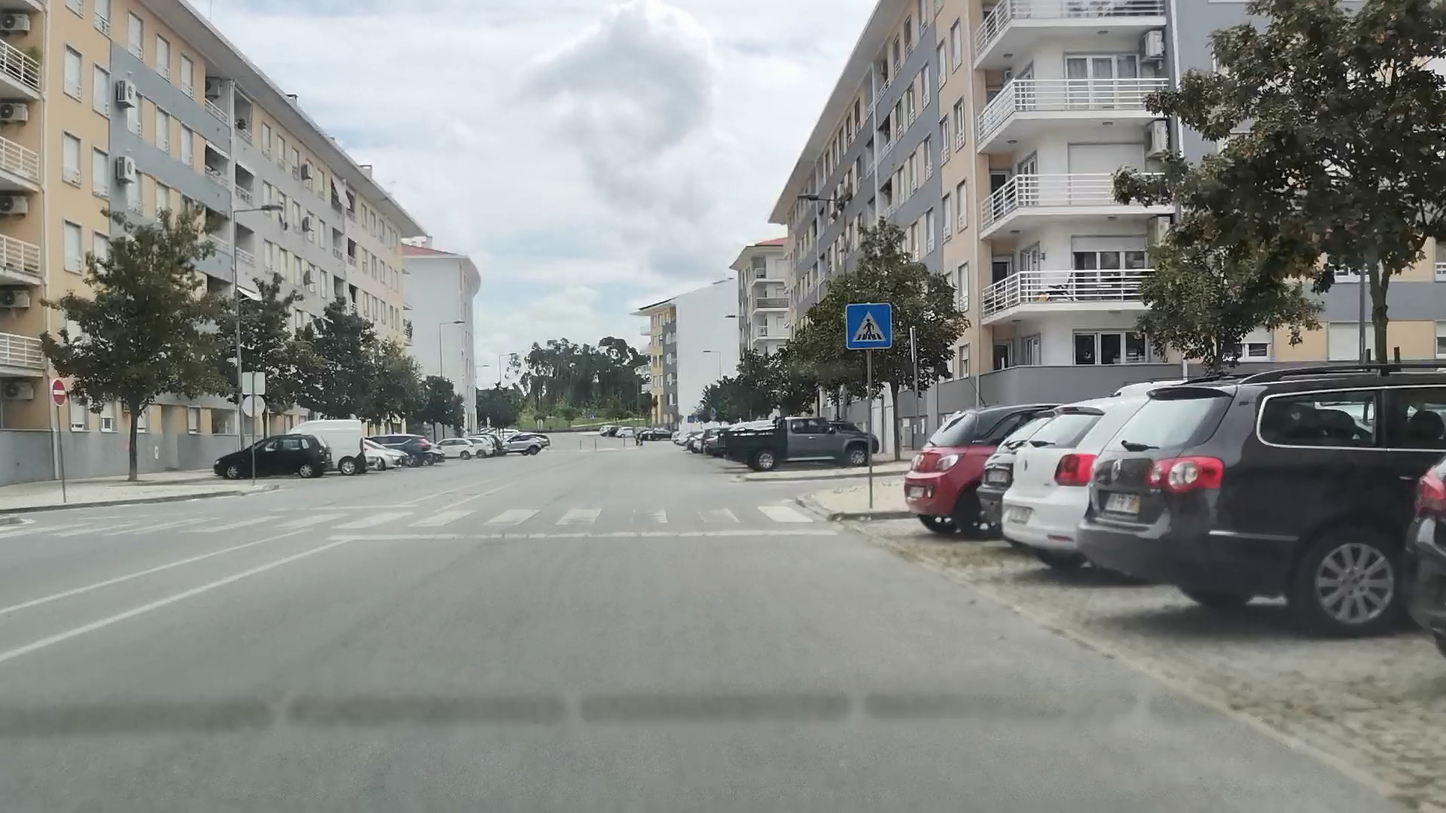Stairs: (0, 501, 818, 542)
